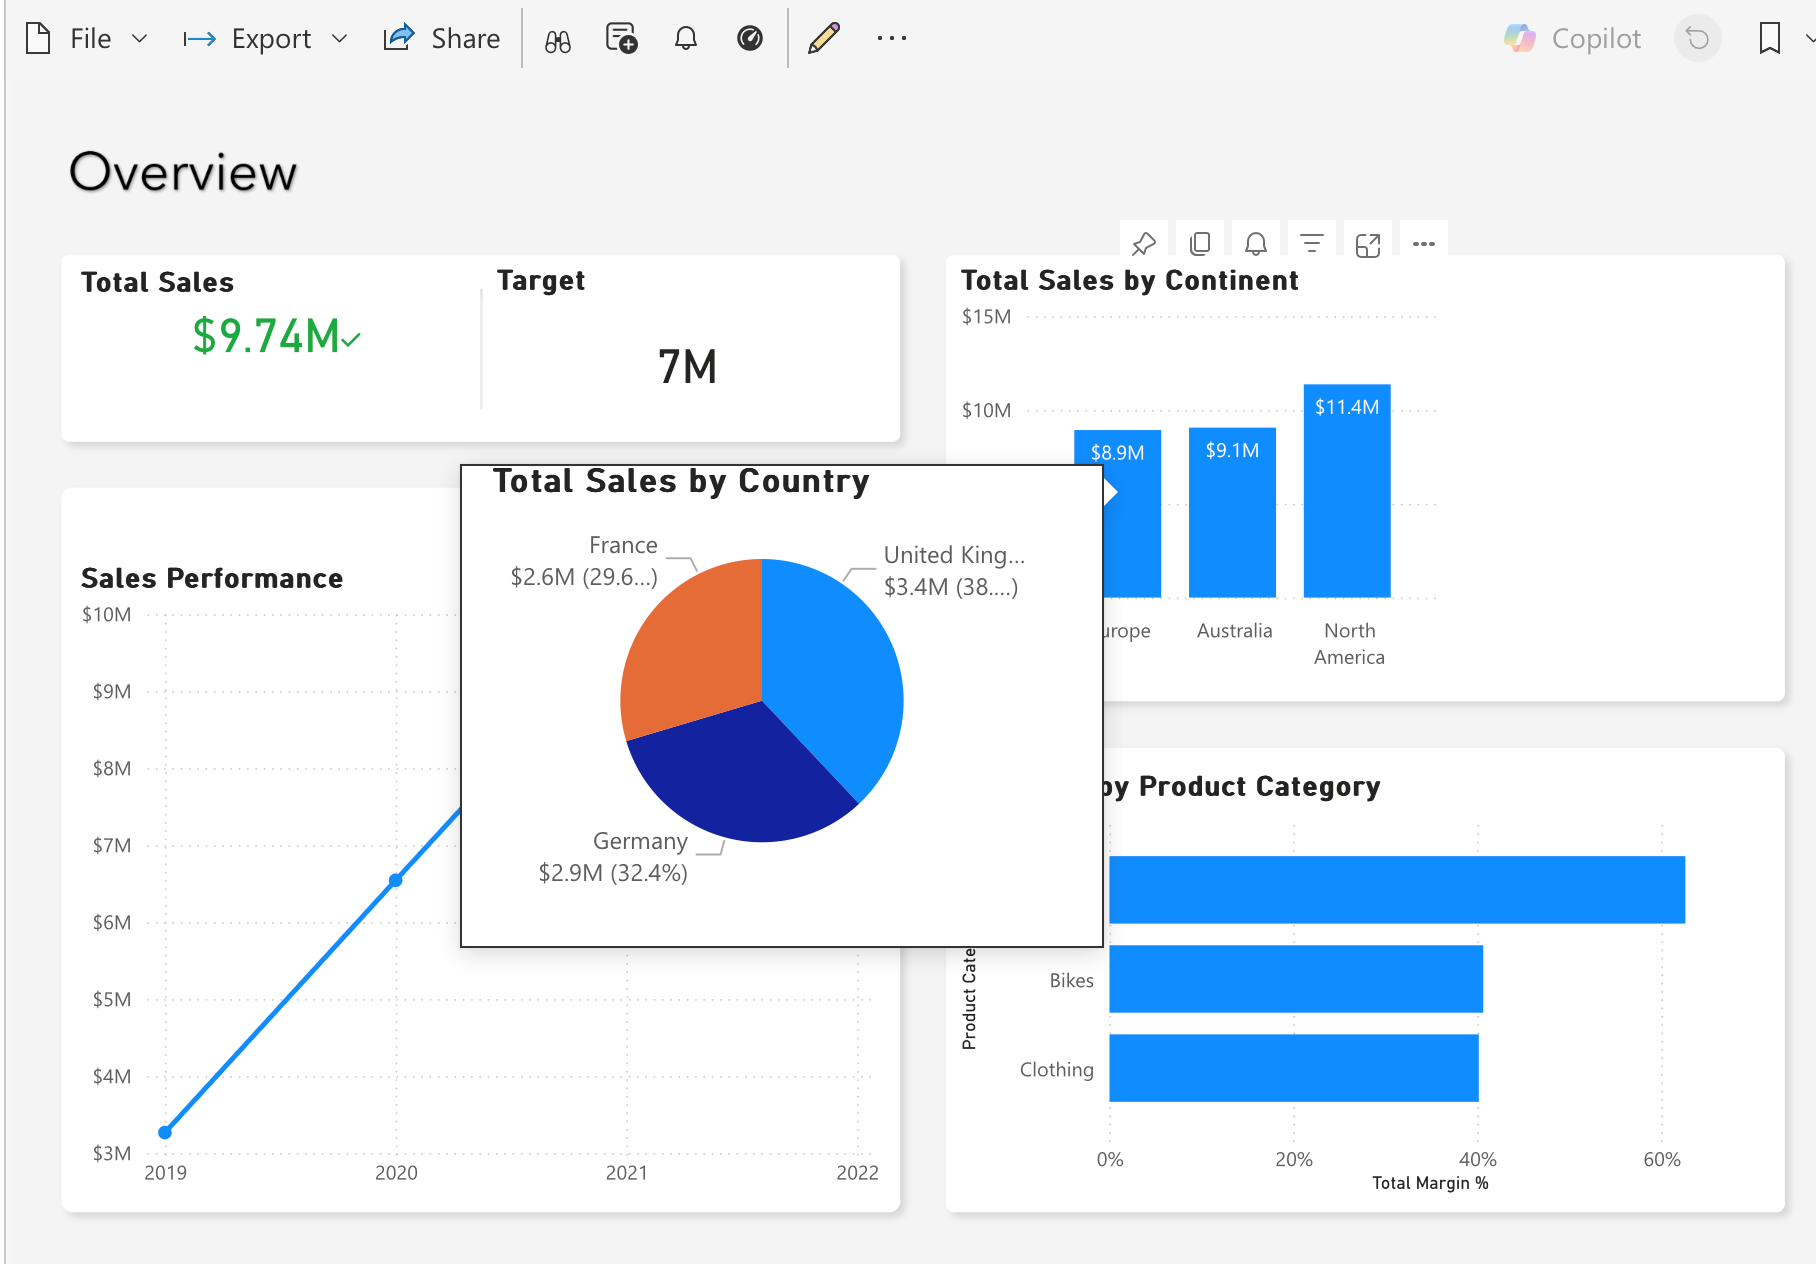

The dashboard page shown, as its layout file describes it:
{"tool":"powerbi","page":{"name":"Overview","canvas":[1280,720],"ordinal":0},"visuals":[{"type":"clusteredColumnChart","fields":{"Category":["Sales Territory.Continent"],"Y":["Sales.Total Sales"]},"box":[570,115,300,250],"z":0},{"type":"clusteredBarChart","title":"Margin % by Product Category","fields":{"Y":["Sales.Total Margin %"],"Category":["Product.Product Hierarchy.Product Category"]},"box":[569.7,419.7,500,257.6],"z":1000},{"type":"lineChart","title":"Sales Performance","fields":{"Category":["Order Date.Order Date Year"],"Y":["Sales.Total Sales"]},"box":[39.8,293.6,491.1,384.1],"z":2000},{"type":"kpi","title":"Total Sales ","fields":{"Indicator":["Sales.Total Sales"],"TrendLine":["Order Date.Order Date Year"],"Goal":["Sales.Target"]},"box":[40,115.2,246,100],"z":3000},{"type":"card","title":"Target","fields":{"Values":["Sales.Target"]},"box":[290,115,240,100],"z":4000},{"type":"slicer","fields":{"Values":["Sales Territory.Continent"]},"box":[1105,115,170,70],"z":4001},{"type":"slicer","fields":{"Values":["Order Date.Order Date Year"]},"box":[1104.5,204.5,169.7,69.7],"z":4002}]}

Visuals, with their boxes on the page's 1280x720 design canvas (x1, y1, x2, y2). These are canvas units, not pixel positions in the 1816x1264 screenshot, which may show the page scaled, cropped or inside an application window:
clusteredColumnChart - Sales Territory.Continent x Sales.Total Sales: (left=570, top=115, right=870, bottom=365)
"Margin % by Product Category" clusteredBarChart: (left=570, top=420, right=1070, bottom=677)
"Sales Performance" lineChart: (left=40, top=294, right=531, bottom=678)
"Total Sales " kpi: (left=40, top=115, right=286, bottom=215)
"Target" card: (left=290, top=115, right=530, bottom=215)
slicer - Sales Territory.Continent: (left=1105, top=115, right=1275, bottom=185)
slicer - Order Date.Order Date Year: (left=1104, top=204, right=1274, bottom=274)
